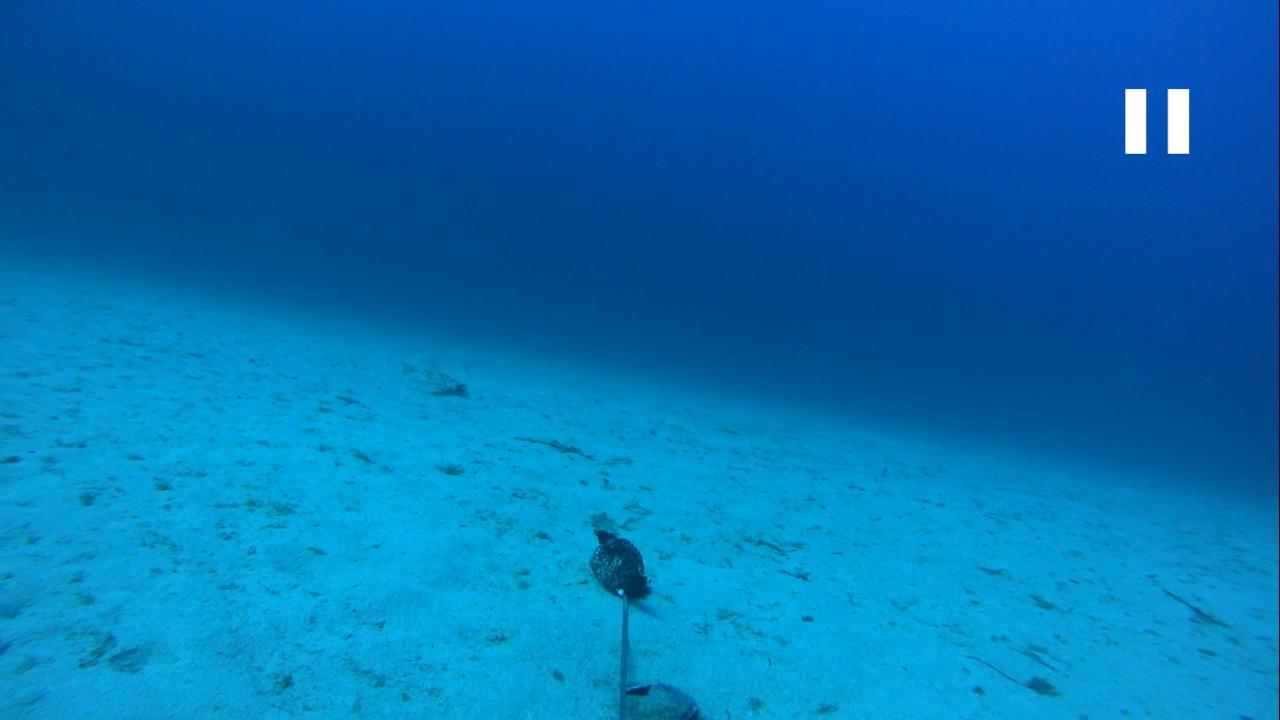dactylopterus: (386, 350, 465, 400)
